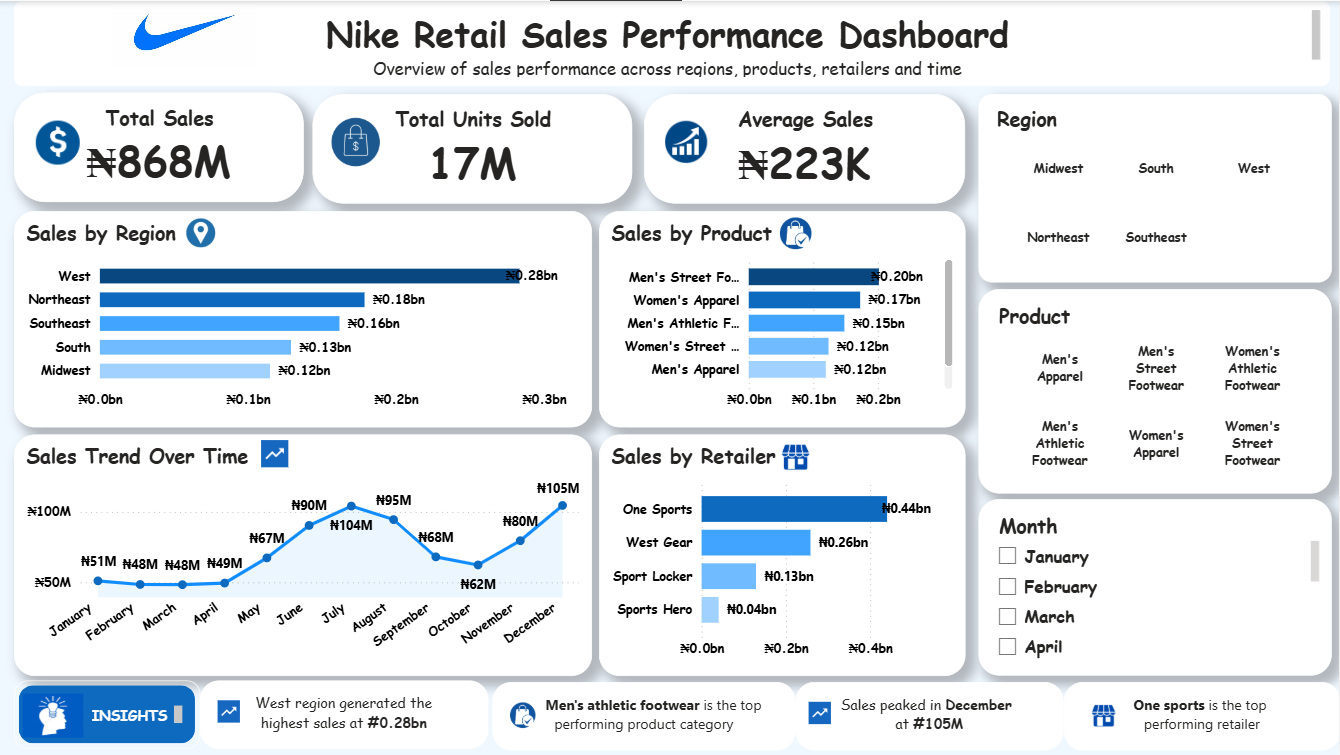

The dashboard page shown, as its layout file describes it:
{"tool":"powerbi","page":{"name":"Overview Dashboard","canvas":[1280,720],"ordinal":0},"visuals":[{"type":"card","title":"Total Sales","fields":{"Values":["NikeRetailSalesUSA.SALES TOTAL"]},"box":[14.3,87.5,276.8,105],"z":0},{"type":"textbox","box":[14.3,0,1256.6,81.1],"z":1000},{"type":"card","title":"Total Units Sold","fields":{"Values":["NikeRetailSalesUSA.TOTAL UNITS"]},"box":[299,89.1,305.4,105],"z":2000},{"type":"card","title":"Average Sales","fields":{"Values":["NikeRetailSalesUSA.AVERAGE SALES"]},"box":[615.6,89.1,307,105],"z":3000},{"type":"clusteredBarChart","title":"        Sales by Region     ","fields":{"Category":["NikeRetailSalesUSA.Region"],"Y":["NikeRetailSalesUSA.SALES TOTAL"]},"box":[14.3,200.4,551.9,206.8],"z":4000},{"type":"clusteredBarChart","title":"Sales by Product","fields":{"Category":["NikeRetailSalesUSA.Product"],"Y":["NikeRetailSalesUSA.SALES TOTAL"]},"box":[572.6,200.4,349.9,206.8],"z":5000},{"type":"lineChart","title":"Sales Trend Over Time","fields":{"Y":["NikeRetailSalesUSA.SALES TOTAL"],"Category":["NikeRetailSalesUSA.Invoice Date.Variation.Date Hierarchy.Month"]},"box":[14.3,413.6,551.9,230.6],"z":6000},{"type":"clusteredBarChart","title":"Sales by Retailer","fields":{"Category":["NikeRetailSalesUSA.Retailer"],"Y":["NikeRetailSalesUSA.SALES TOTAL"]},"box":[572.6,413.6,349.9,230.6],"z":7000},{"type":"slicer","fields":{"Values":["NikeRetailSalesUSA.Region"]},"box":[935.3,89.1,337.2,179.7],"z":8000},{"type":"slicer","fields":{"Values":["NikeRetailSalesUSA.Product"]},"box":[935.3,275.2,337.2,195.6],"z":9000},{"type":"slicer","fields":{"Values":["NikeRetailSalesUSA.Invoice Date.Variation.Date Hierarchy.Month"]},"box":[935.3,475.6,337.2,168.6],"z":10000},{"type":"image","box":[103.4,0,147.9,68.4],"z":11000},{"type":"image","box":[25.4,108.2,60.4,52.5],"z":12000},{"type":"image","box":[308.6,101.4,65.7,65.7],"z":13000},{"type":"image","box":[628.6,104.3,54.3,60],"z":14000},{"type":"image","box":[245,413.6,36.6,36.6],"z":15000},{"type":"image","box":[168.6,198.8,47.7,44.5],"z":16000},{"type":"image","box":[728.5,195.6,63.6,50.9],"z":17000},{"type":"image","box":[738,413.6,46.1,42.9],"z":18000},{"type":"shape","box":[14.3,649,178.1,65.2],"z":19000},{"type":"image","box":[17.5,655.3,68.4,52.5],"z":20000},{"type":"textbox","box":[82.7,668.1,97,27],"z":21000},{"type":"textbox","box":[192.5,649,275.2,65.2],"z":22000},{"type":"image","box":[203.6,661.7,31.8,33.4],"z":23000},{"type":"textbox","box":[470.8,650.6,289.5,65.2],"z":24000},{"type":"image","box":[469.2,660.1,60.4,42.9],"z":25000},{"type":"textbox","box":[760.3,650.6,256.1,65.2],"z":26000},{"type":"textbox","box":[1016.4,650.6,264,65.2],"z":27000},{"type":"image","box":[768.3,663.3,31.8,33.4],"z":28000},{"type":"image","box":[1033.9,663.3,41.4,38.2],"z":29000}]}

Visuals, with their boxes in screenshot pixels (x1, y1, x2, y2), scaled from the page's 1280x720 canvas onto the 1340x755 screenshot:
"Total Sales" card: [left=15, top=92, right=305, bottom=202]
textbox: [left=15, top=0, right=1330, bottom=85]
"Total Units Sold" card: [left=313, top=93, right=633, bottom=204]
"Average Sales" card: [left=644, top=93, right=966, bottom=204]
"        Sales by Region     " clusteredBarChart: [left=15, top=210, right=593, bottom=427]
"Sales by Product" clusteredBarChart: [left=599, top=210, right=966, bottom=427]
"Sales Trend Over Time" lineChart: [left=15, top=434, right=593, bottom=676]
"Sales by Retailer" clusteredBarChart: [left=599, top=434, right=966, bottom=676]
slicer - NikeRetailSalesUSA.Region: [left=979, top=93, right=1332, bottom=282]
slicer - NikeRetailSalesUSA.Product: [left=979, top=289, right=1332, bottom=494]
slicer - NikeRetailSalesUSA.Invoice Date.Variation.Date Hierarchy.Month: [left=979, top=499, right=1332, bottom=676]
image: [left=108, top=0, right=263, bottom=72]
image: [left=27, top=113, right=90, bottom=169]
image: [left=323, top=106, right=392, bottom=175]
image: [left=658, top=109, right=715, bottom=172]
image: [left=256, top=434, right=295, bottom=472]
image: [left=177, top=208, right=226, bottom=255]
image: [left=763, top=205, right=829, bottom=258]
image: [left=773, top=434, right=821, bottom=479]
shape: [left=15, top=681, right=201, bottom=749]
image: [left=18, top=687, right=90, bottom=742]
textbox: [left=87, top=701, right=188, bottom=729]
textbox: [left=202, top=681, right=490, bottom=749]
image: [left=213, top=694, right=246, bottom=729]
textbox: [left=493, top=682, right=796, bottom=751]
image: [left=491, top=692, right=554, bottom=737]
textbox: [left=796, top=682, right=1064, bottom=751]
textbox: [left=1064, top=682, right=1339, bottom=751]
image: [left=804, top=696, right=838, bottom=731]
image: [left=1082, top=696, right=1126, bottom=736]
